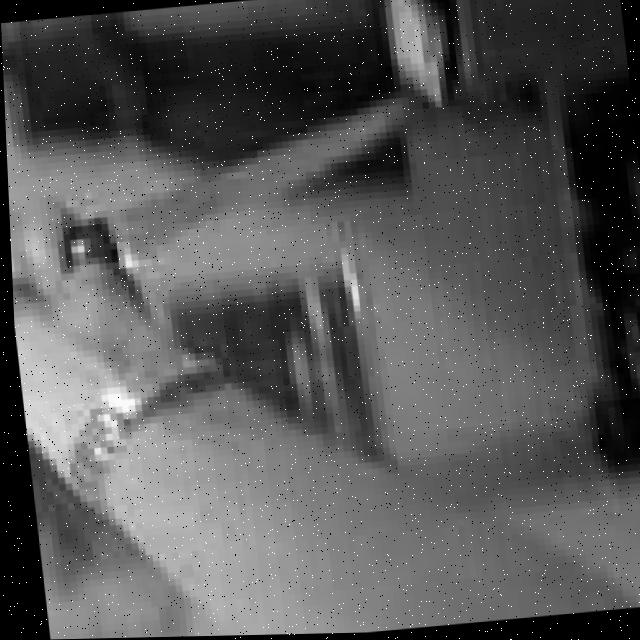knife: (40, 88, 437, 284)
